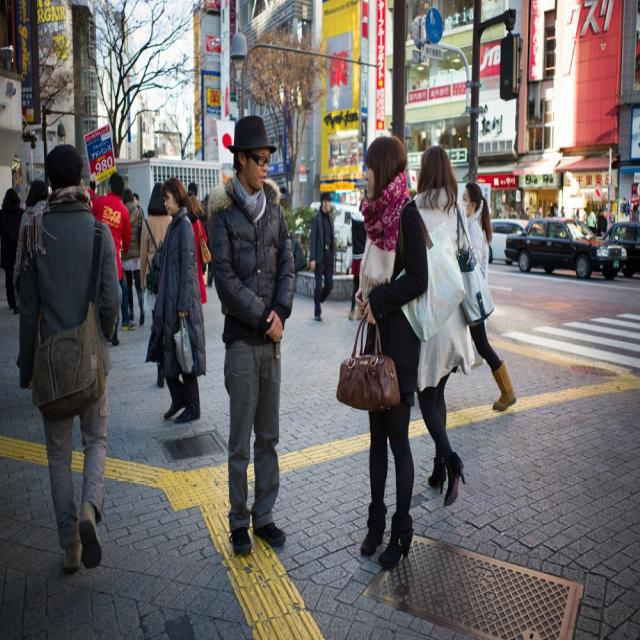body: (16, 141, 125, 576), (205, 111, 297, 556), (352, 134, 430, 571), (410, 144, 496, 508), (120, 180, 308, 309), (144, 174, 208, 424), (459, 180, 518, 411), (90, 171, 132, 347), (484, 196, 631, 240), (138, 180, 174, 329), (12, 176, 49, 314), (308, 189, 336, 322), (120, 188, 146, 326), (0, 187, 25, 316), (348, 197, 370, 321), (189, 194, 212, 304), (132, 191, 146, 221), (597, 207, 608, 241), (631, 204, 640, 243), (586, 208, 598, 235), (534, 205, 544, 237), (509, 205, 518, 219)
